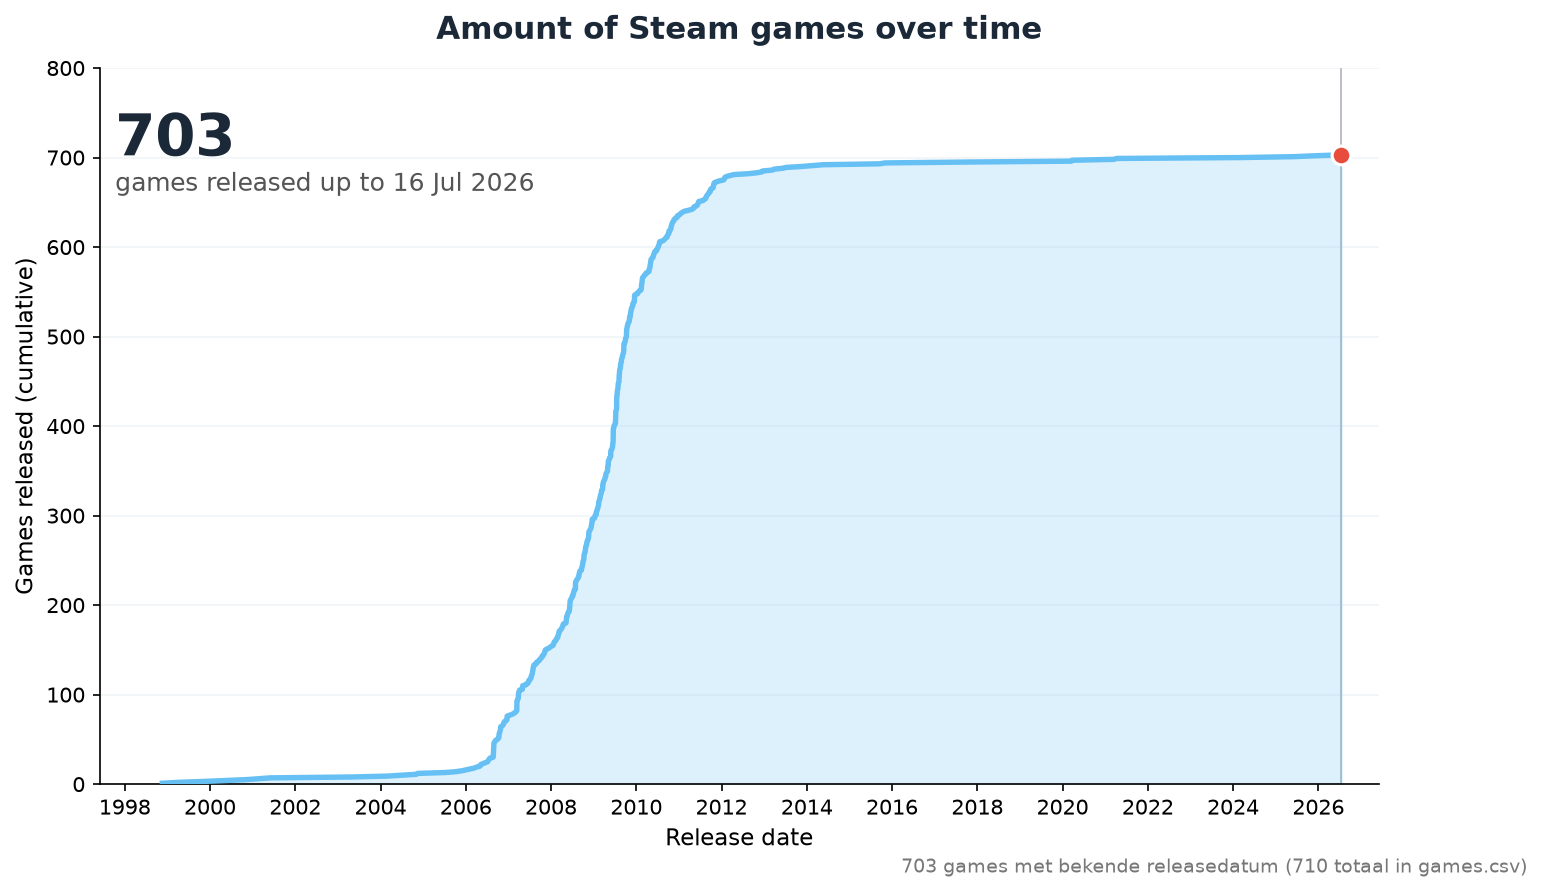

This screenshot's page, from the dashboard's own definition file:
{"tool":"powerbi","page":{"name":"Page 1","canvas":[1920,1080],"ordinal":0},"visuals":[{"type":"lineChart","fields":{"Category":["date.date_fmt"],"Y":["CountNonNull(games.appid)"]},"box":[10.3,0,1909.7,519.9],"z":0}]}

Visuals, with their boxes in screenshot pixels (x1, y1, x2, y2), scaled from the page's 1920x1080 canvas onto the 1542x892 screenshot:
lineChart - date.date_fmt x CountNonNull(games.appid): bbox(8, 0, 1541, 429)
